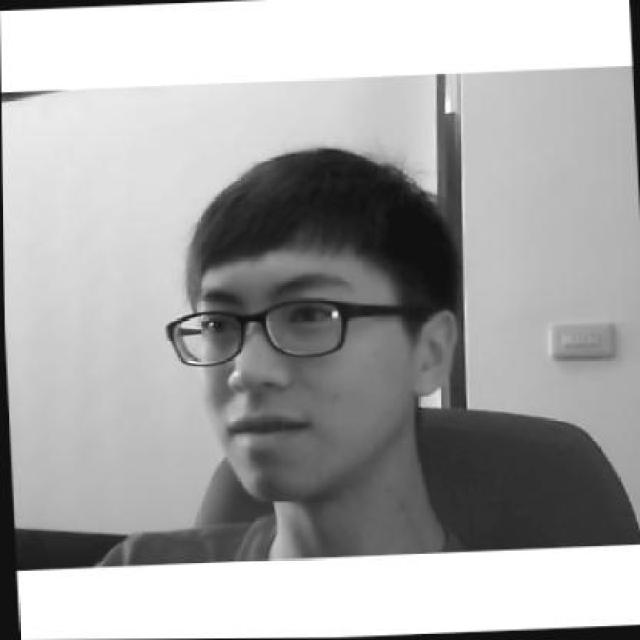attentif: (152, 142, 465, 503)
